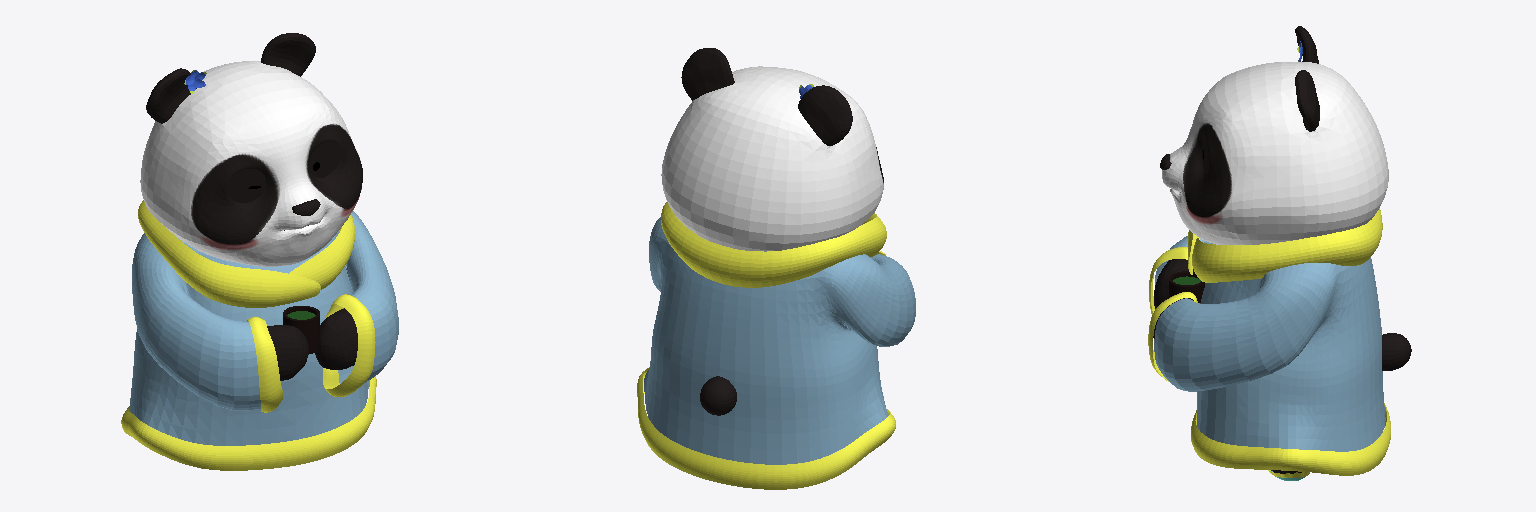
3 views of the same model, side by side, from view 1: azimuth 30°, elevation 25°; view 2: azimuth 150°, elevation 25°; view 3: azimuth 270°, elevation 25° (orthographic).
Parts seen in each view (by area): view 1: 013, panda_body007.004, 平面, 011, 011.001, 柱体; view 2: panda_body007.004, 013, 平面, 005.001; view 3: panda_body007.004, 013, 平面, 005.001, 011.001, 柱体.
Part boxes in pixels (x1,y1,x2,y2): 013: (140,33,362,266); panda_body007.004: (129,211,398,445); 平面: (121,200,376,470); 011: (315,308,357,369); 011.001: (267,325,308,380); 柱体: (283,306,319,354); panda_body007.004: (644,217,915,464); 013: (661,48,883,251); 平面: (637,202,895,489); 005.001: (700,376,736,415); panda_body007.004: (1154,236,1385,451); 013: (1162,26,1388,244); 平面: (1148,208,1390,477); 005.001: (1382,333,1411,370); 011.001: (1154,259,1193,308); 柱体: (1169,271,1204,302).
Size of the model in its own units: 5.42 by 8.71 by 5.09.
Materials: 11 (1 with a texture image).